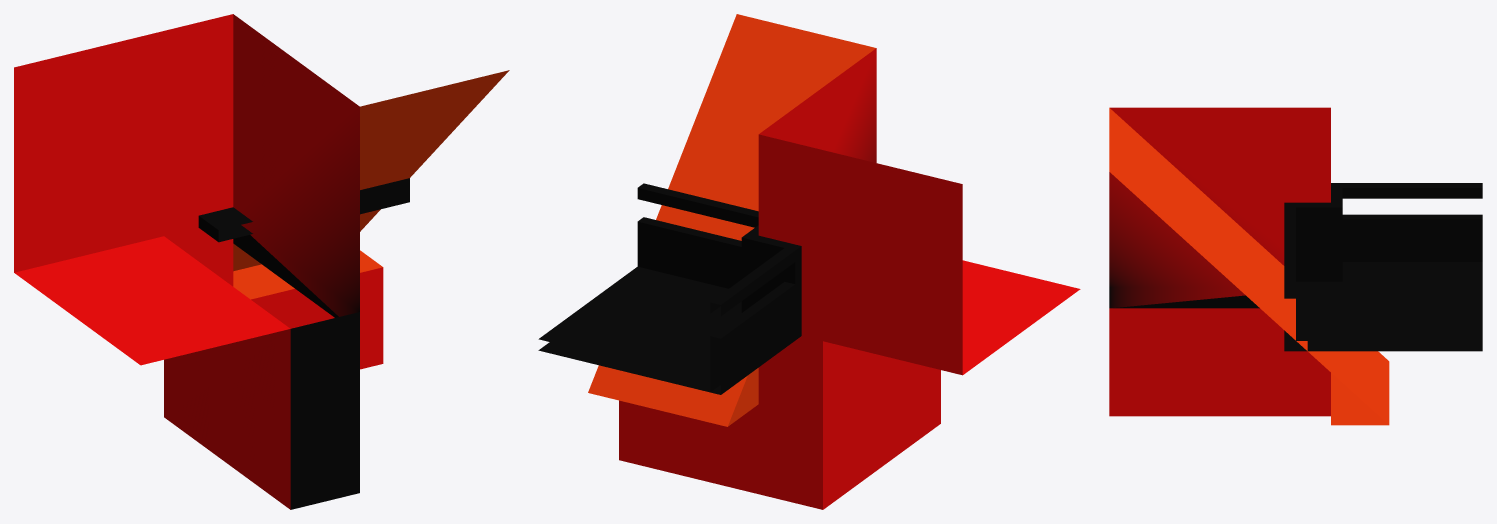
The picture shows the model from 3 angles, left to right: view 1: azimuth 30°, elevation 25°; view 2: azimuth 150°, elevation 25°; view 3: azimuth 270°, elevation 25°; orthographic projection. The views are drawn at different scales.
Parts seen in each view (by area): view 1: None_P_S_E_E_E_E_E_A_None; view 2: None_P_S_E_E_E_E_E_A_None; view 3: None_P_S_E_E_E_E_E_A_None.
Part boxes in pixels (<box>): None_P_S_E_E_E_E_E_A_None: <box>14,14,509,509</box>; None_P_S_E_E_E_E_E_A_None: <box>538,14,1080,509</box>; None_P_S_E_E_E_E_E_A_None: <box>1109,107,1482,425</box>.
Bounding box in the file's own units: 100 × 100 × 100.
